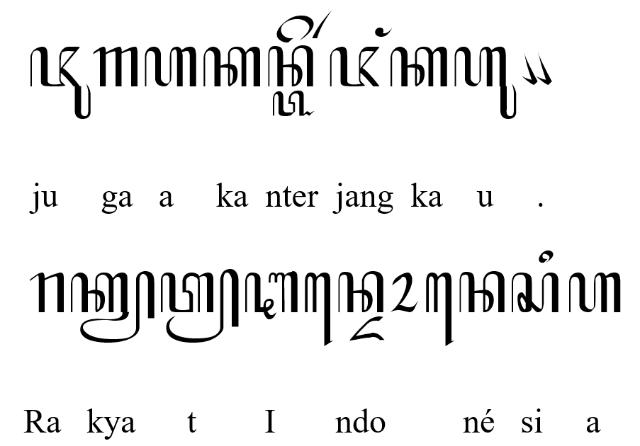-t: (159, 268, 239, 344)
I: (244, 270, 298, 320)
_d: (348, 316, 384, 340)
_r1: (313, 10, 332, 38)
_t: (271, 91, 315, 117)
e: (276, 14, 314, 43)
e1: (304, 271, 332, 347), (426, 272, 454, 348)
g: (92, 46, 138, 88)
h: (568, 272, 622, 314), (144, 46, 198, 87)
hu: (454, 46, 516, 120)
i: (538, 250, 554, 264)
j: (390, 46, 448, 87), (330, 46, 380, 87)
ju: (28, 45, 92, 119)
k: (202, 45, 262, 88)
kom: (520, 52, 538, 86), (535, 50, 551, 86)
ky: (69, 272, 155, 344)
n: (458, 271, 506, 313), (268, 45, 314, 87), (338, 272, 384, 314)
ng: (375, 27, 393, 37)
o: (389, 273, 418, 313)
r: (30, 272, 64, 314)
s: (510, 271, 560, 313)
